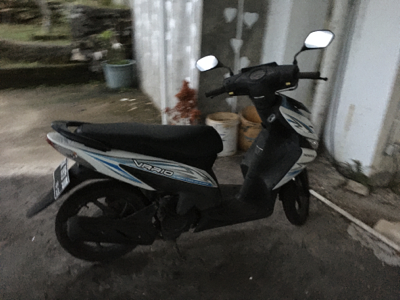moto: (43, 58, 325, 262)
